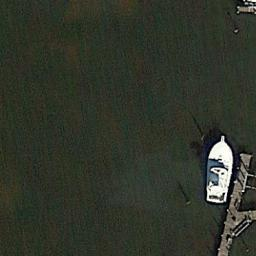boat: (204, 134, 234, 204)
